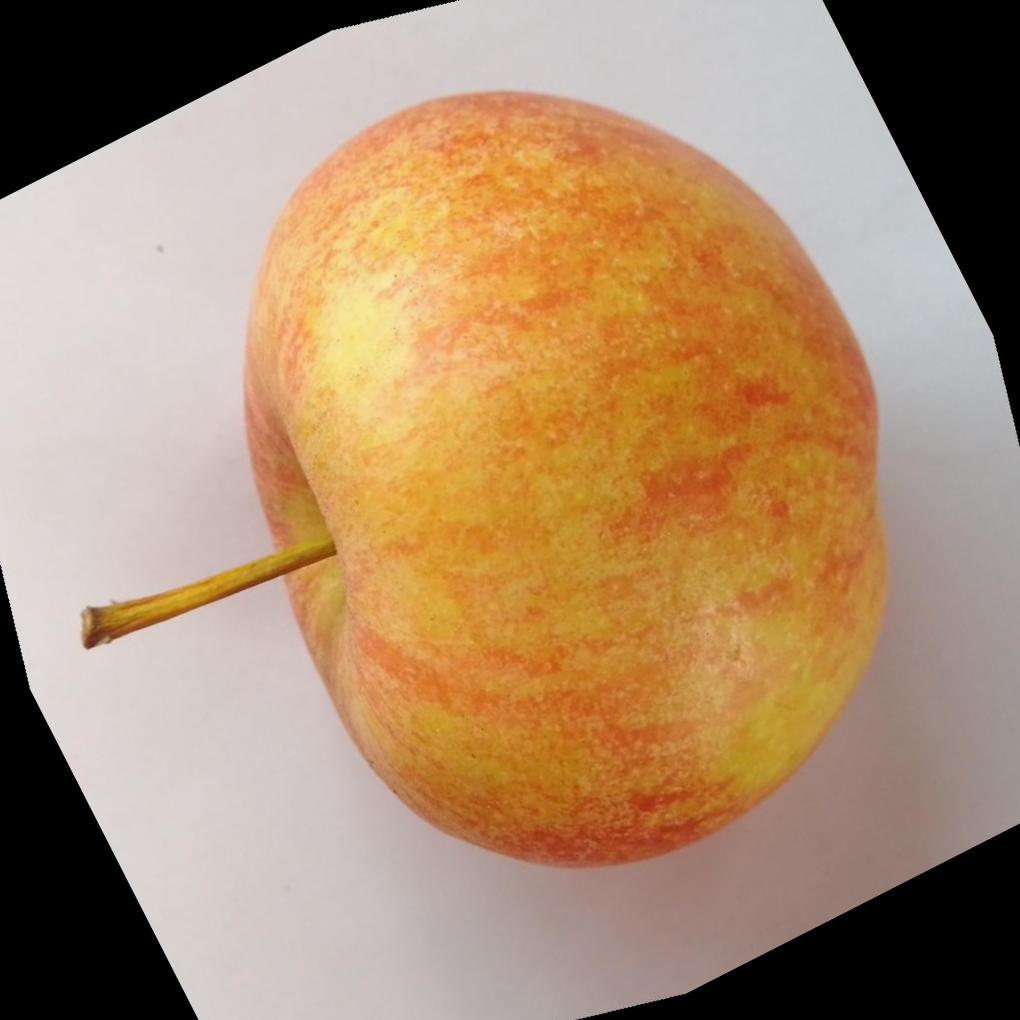FreshGuava: (101, 85, 889, 868)
